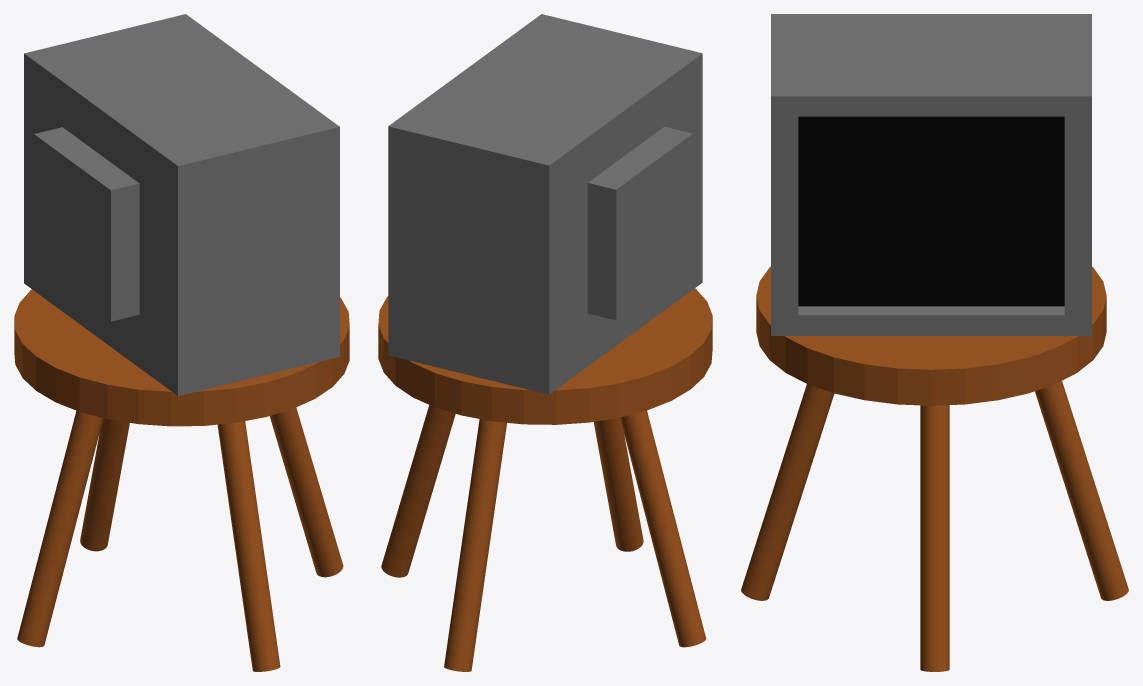
The picture shows the model from 3 angles, left to right: view 1: azimuth 30°, elevation 25°; view 2: azimuth 150°, elevation 25°; view 3: azimuth 270°, elevation 25°; orthographic projection. The views are drawn at different scales.
Parts seen in each view (by area): view 1: Cube, Cylinder, Cylinder.002, Cylinder.004, Cylinder.003, Cylinder.001; view 2: Cube, Cylinder, Cylinder.001, Cylinder.004, Cylinder.003, Cylinder.002; view 3: Cube, Cylinder, Cylinder.003, Cylinder.001, Cylinder.002.
Boxes of the visible parts, x1,y1,x2,y2 form: Cube: (24,14,339,395); Cylinder: (14,289,349,426); Cylinder.002: (217,421,280,671); Cylinder.004: (17,410,103,647); Cylinder.003: (269,407,343,577); Cylinder.001: (80,418,129,551); Cube: (388,14,702,394); Cylinder: (378,288,712,424); Cylinder.001: (444,419,506,671); Cylinder.004: (620,410,706,647); Cylinder.003: (381,405,455,577); Cylinder.002: (593,417,643,551); Cube: (771,14,1091,335); Cylinder: (756,266,1106,405); Cylinder.003: (920,405,949,671); Cylinder.001: (1035,381,1128,600); Cylinder.002: (741,384,834,600).
Bounding box in the file's own units: 3.98 × 6.15 × 3.98.
